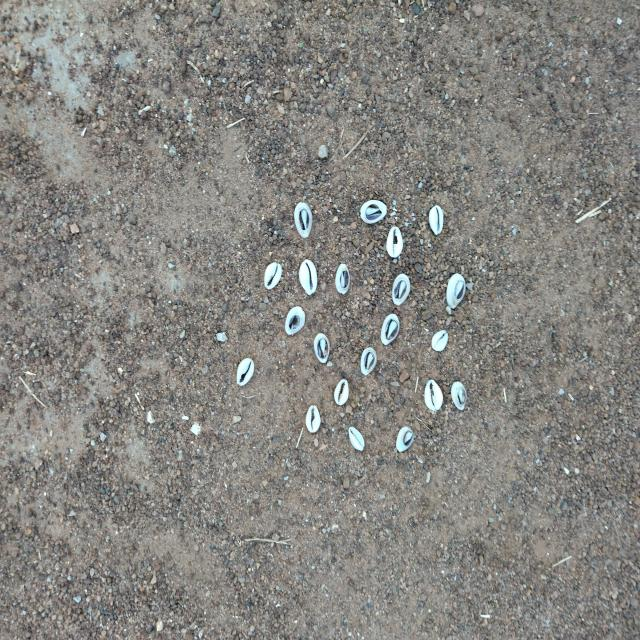facedown: (293, 200, 314, 238), (446, 271, 467, 309), (360, 199, 389, 224), (392, 273, 412, 309), (380, 313, 400, 347), (284, 306, 306, 336), (313, 331, 332, 364), (359, 346, 378, 376), (335, 262, 351, 296), (451, 381, 468, 411), (396, 426, 414, 452)
faceup: (297, 258, 318, 296), (423, 377, 444, 413), (234, 355, 255, 386), (263, 260, 282, 292), (427, 203, 446, 235), (304, 404, 322, 436), (386, 226, 404, 258), (347, 425, 366, 453), (430, 329, 450, 354), (333, 378, 350, 407)
